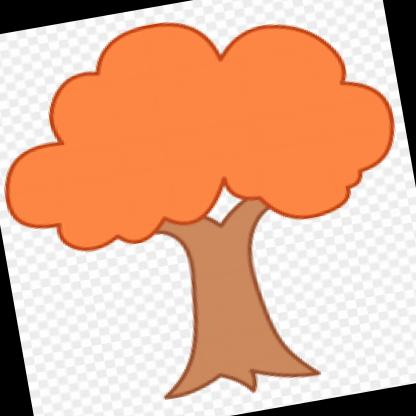branch_cut: (146, 192, 294, 252)
crown_cloud: (0, 0, 407, 269)
root_only: (158, 342, 322, 406)
trunk_straight: (164, 231, 293, 372)
